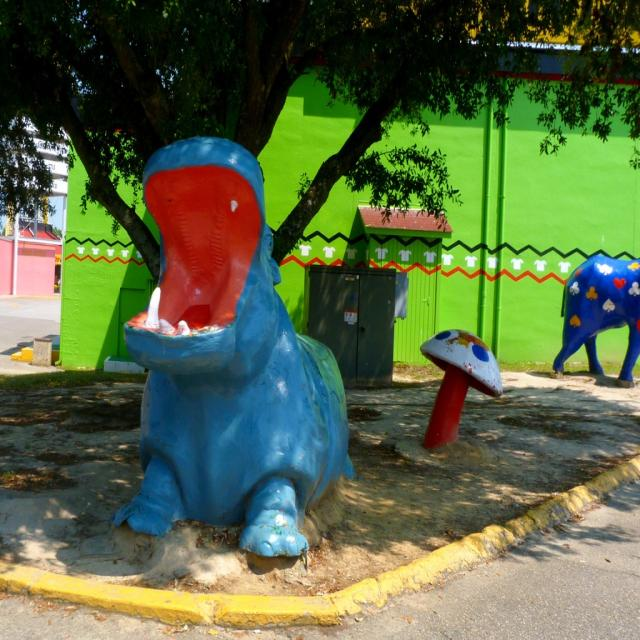elephant: (555, 249, 636, 389)
